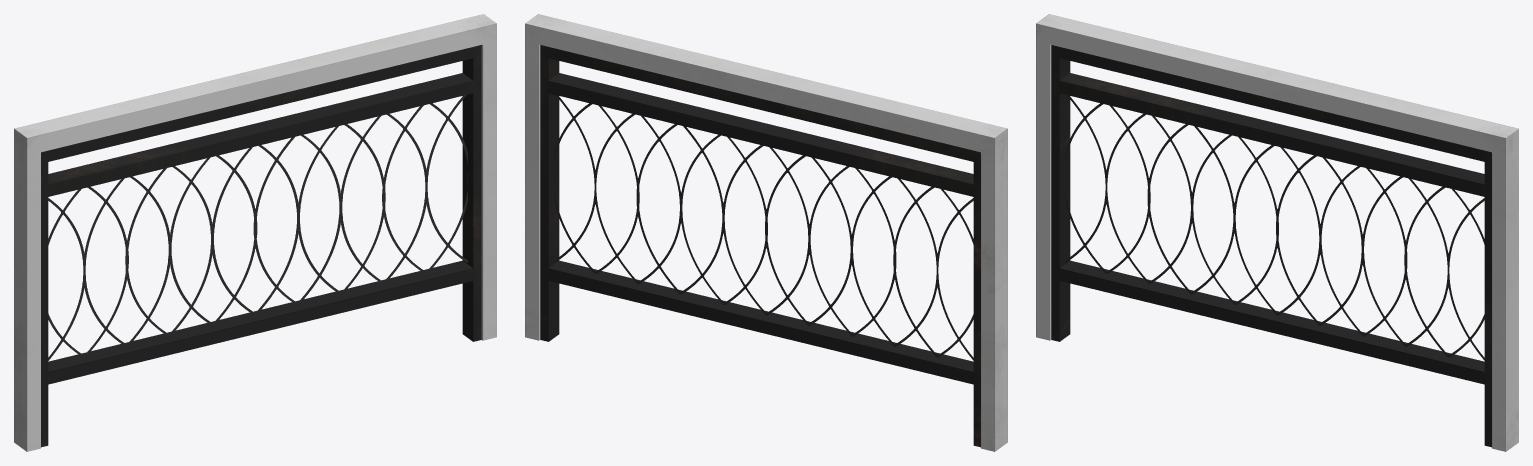
The model's file is FoodCourtBarricade.dae.
The picture shows the model from 3 angles, left to right: view 1: azimuth 30°, elevation 25°; view 2: azimuth 150°, elevation 25°; view 3: azimuth 330°, elevation 25°; orthographic projection.
Parts seen in each view (by area): view 1: FoodCourtBarricade; view 2: FoodCourtBarricade; view 3: FoodCourtBarricade.
Part boxes in pixels (box(x1,y1,x2,y2)): FoodCourtBarricade: box(14, 14, 496, 451); FoodCourtBarricade: box(525, 14, 1007, 451); FoodCourtBarricade: box(1036, 14, 1518, 451).
Bounding box in the file's own units: 1.76 × 0.0844 × 1.12.
1 material, 1 textured.
